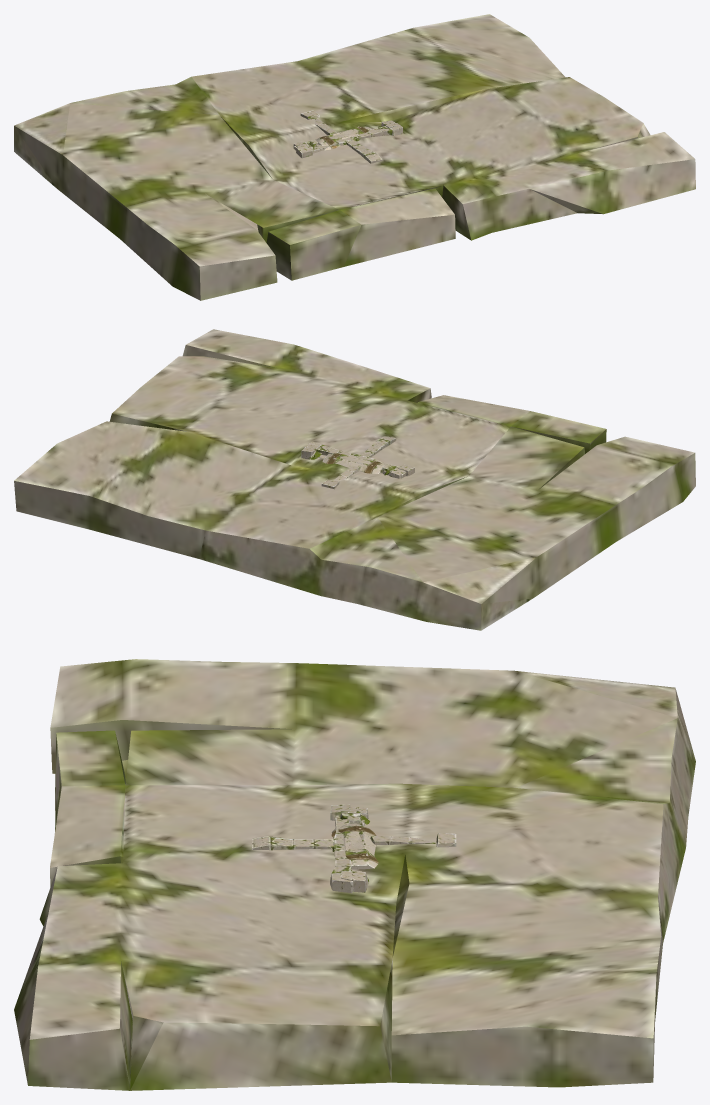
The model's file is walls.glb.
3 views of the same model, one above another, from view 1: azimuth 30°, elevation 25°; view 2: azimuth 150°, elevation 25°; view 3: azimuth 270°, elevation 25° (orthographic). The views are drawn at different scales.
Parts seen in each view (by area): view 1: floor_tile, wall_cross, chest; view 2: floor_tile, wall_cross, chest; view 3: floor_tile, wall_cross, chest.
Part boxes in pixels (x1,y1,x2,y2): floor_tile: [14, 14, 695, 300]; wall_cross: [296, 110, 402, 163]; chest: [316, 126, 371, 150]; floor_tile: [14, 329, 695, 630]; wall_cross: [304, 436, 414, 489]; chest: [322, 453, 385, 473]; floor_tile: [14, 659, 695, 1090]; wall_cross: [252, 804, 456, 893]; chest: [331, 823, 378, 869].
Size of the model in its own units: 13.06 by 1 by 9.99.
1 material, 1 textured.
